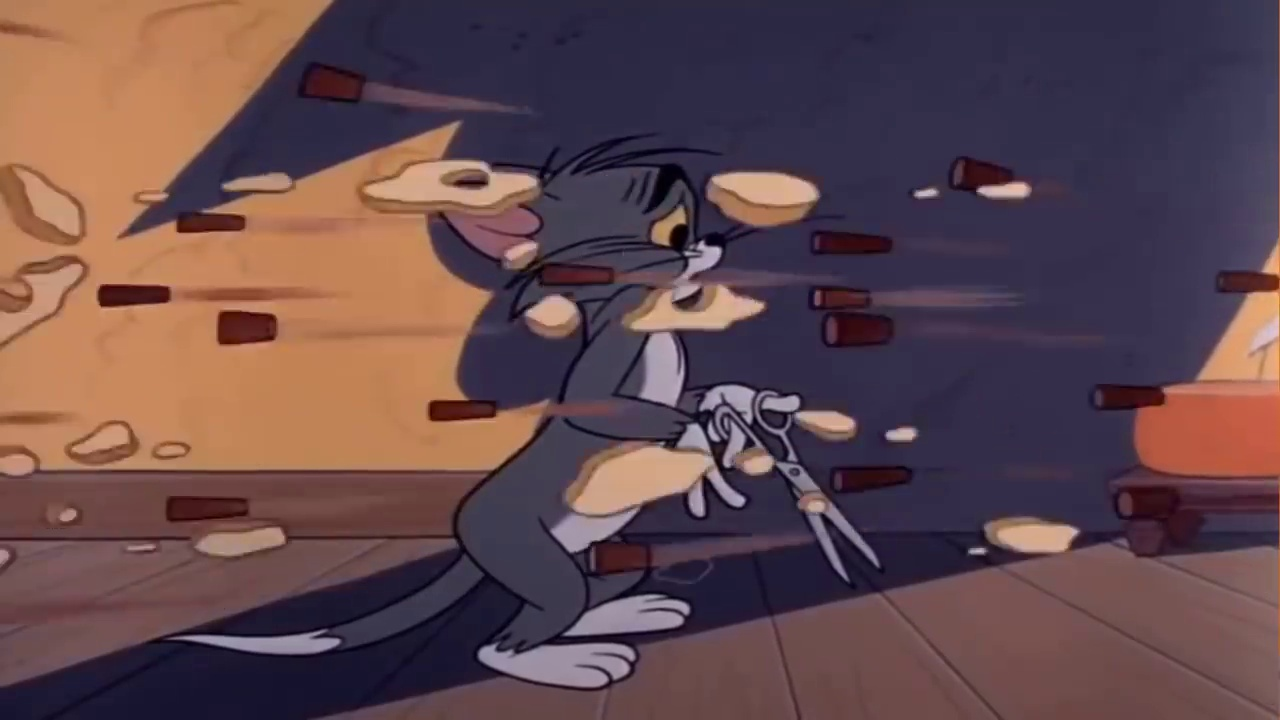face: (613, 165, 731, 304)
